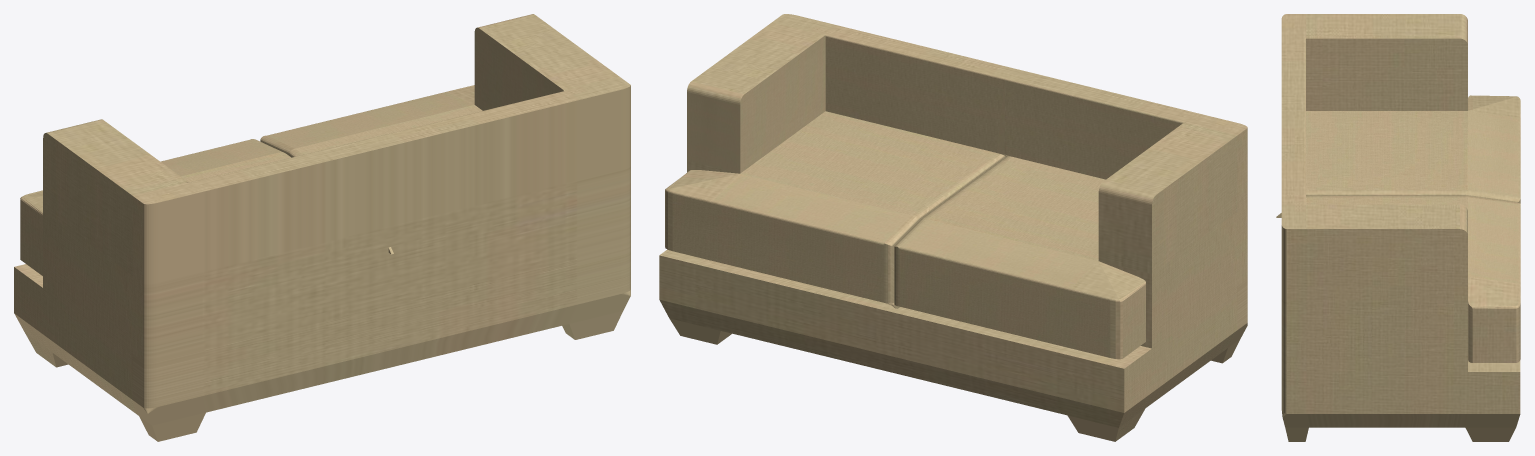
The model's file is Sillon.obj.
The picture shows the model from 3 angles, left to right: view 1: azimuth 30°, elevation 25°; view 2: azimuth 150°, elevation 25°; view 3: azimuth 270°, elevation 25°; orthographic projection. The views are drawn at different scales.
Parts seen in each view (by area): view 1: Sofa_Cube.041; view 2: Sofa_Cube.041; view 3: Sofa_Cube.041.
Boxes of the visible parts, bbox=[...] form: Sofa_Cube.041: bbox=[14, 14, 630, 441]; Sofa_Cube.041: bbox=[659, 14, 1247, 441]; Sofa_Cube.041: bbox=[1276, 14, 1520, 441].
Bounding box in the file's own units: 2.31 × 1.1 × 1.11.
